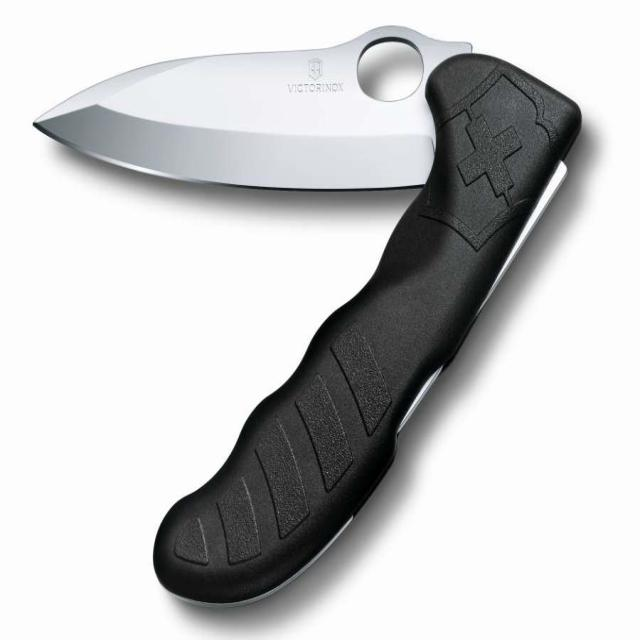knife: (24, 16, 590, 620)
